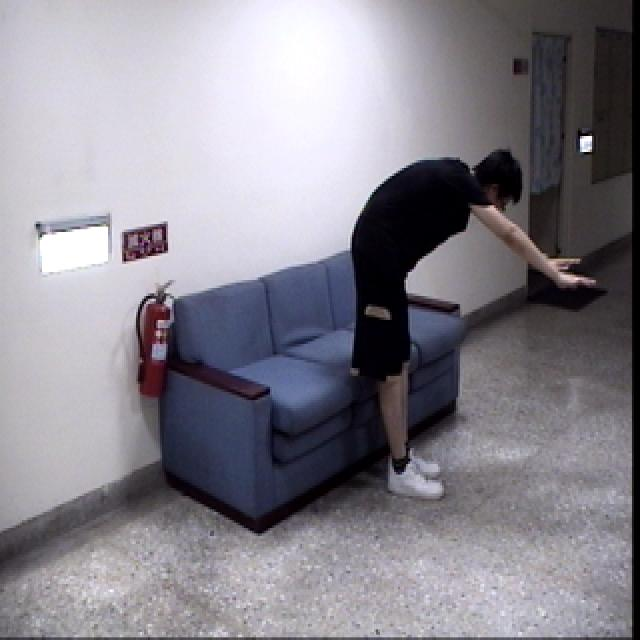bend: (346, 148, 602, 518)
